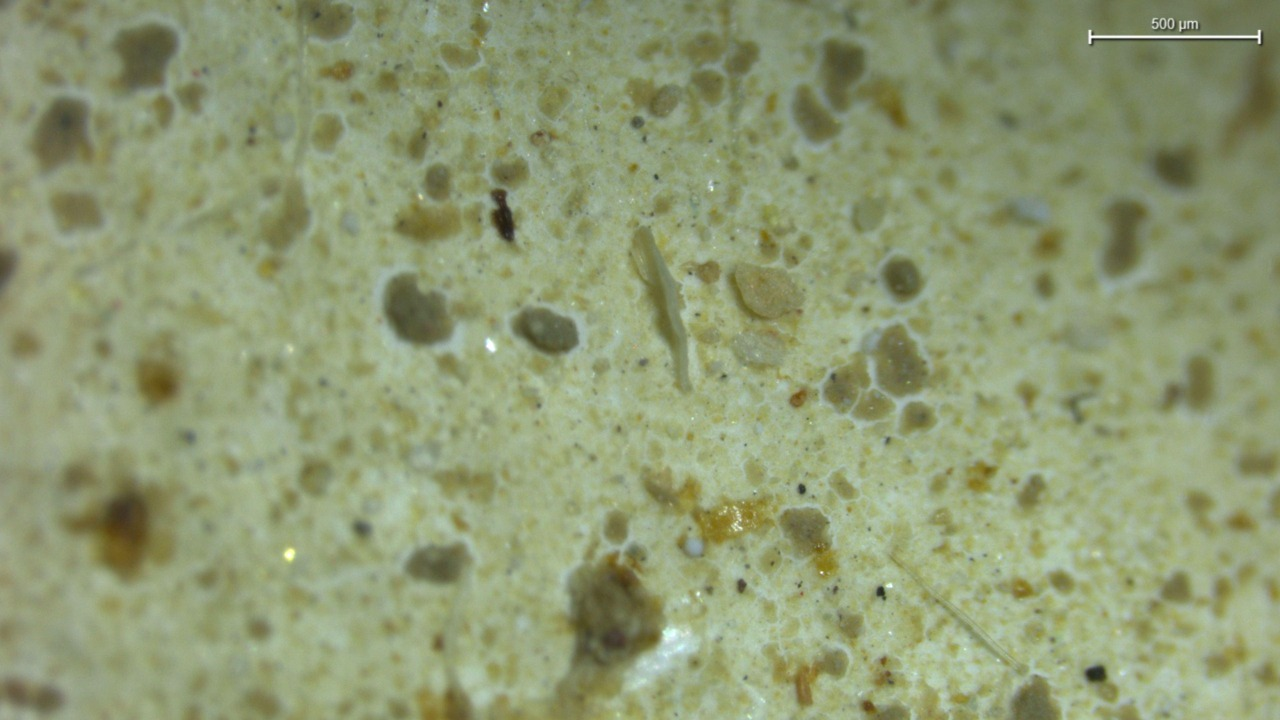microplastic_fragment: (734, 263, 804, 319), (732, 332, 784, 365)
